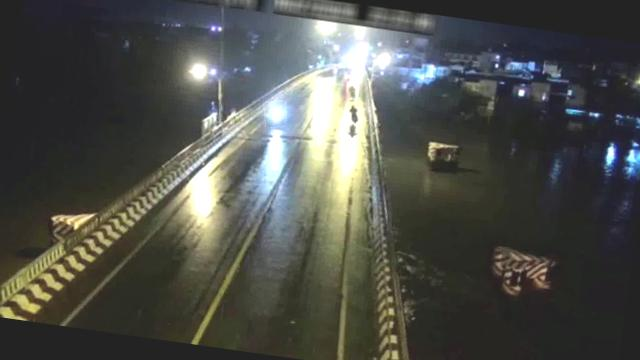Bike: (261, 99, 288, 129), (346, 102, 361, 124), (346, 84, 359, 99)
